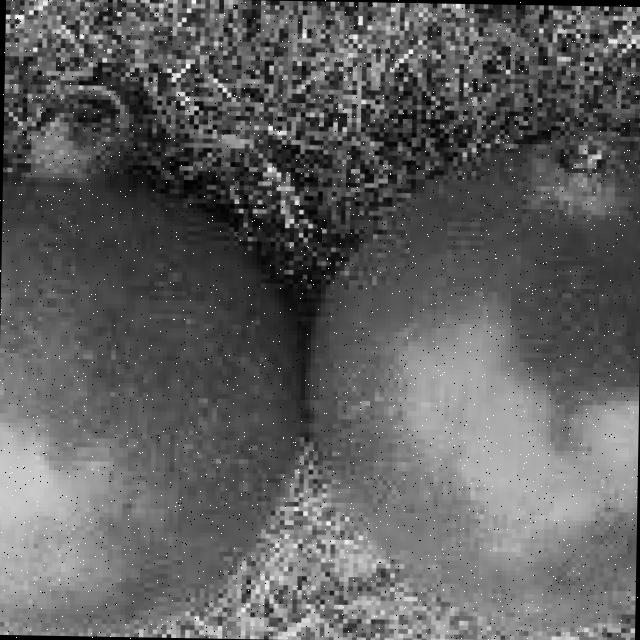Good_Pomegranate-50-60-days: (0, 70, 640, 637)
